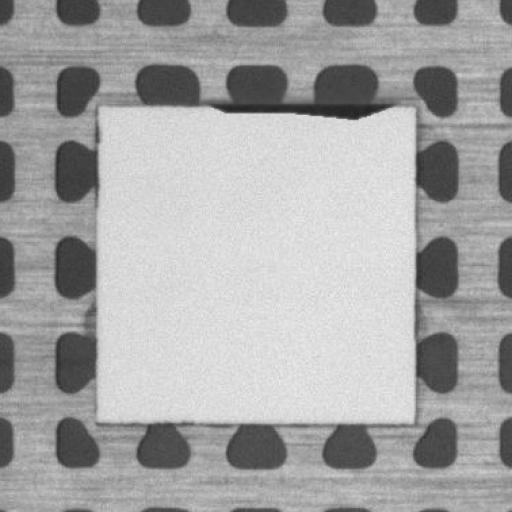DIE_BROKEN: (206, 99, 395, 123)
